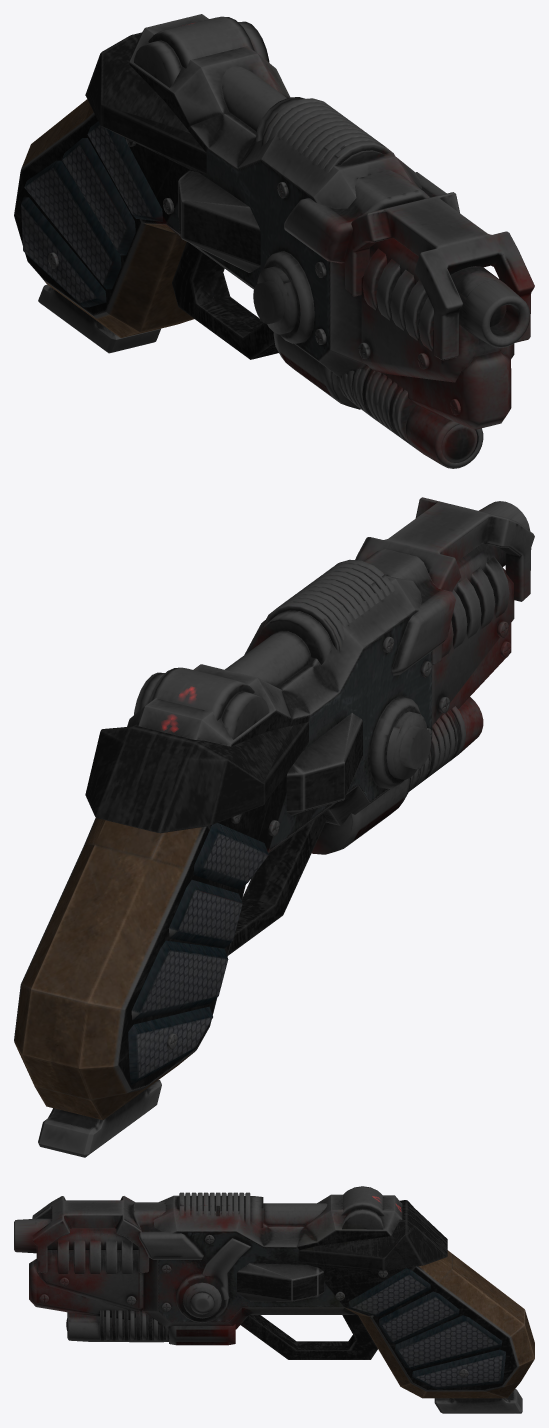
Rendered from gun.gltf.
3 views of the same model, one above another, from view 1: azimuth 30°, elevation 25°; view 2: azimuth 150°, elevation 25°; view 3: azimuth 270°, elevation 25° (orthographic). The views are drawn at different scales.
Parts seen in each view (by area): view 1: HandPulzer; view 2: HandPulzer; view 3: HandPulzer.
Part boxes in pixels (x1,y1,x2,y2): HandPulzer: (14,14,534,468); HandPulzer: (14,497,534,1157); HandPulzer: (14,1186,534,1413).
Size of the model in its own units: 0.4151 by 0.9018 by 2.
Materials: 1 (1 with a texture image).
